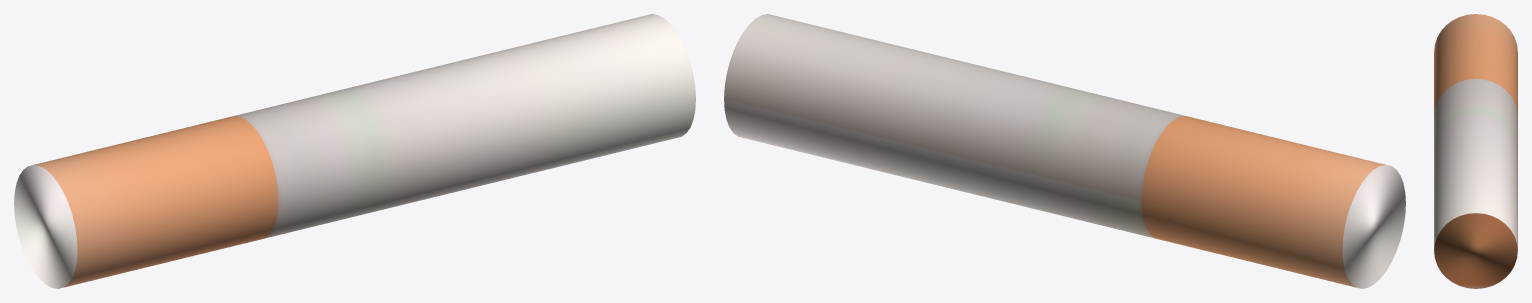
Rendered from Cigarette.glb.
The picture shows the model from 3 angles, left to right: view 1: azimuth 30°, elevation 25°; view 2: azimuth 150°, elevation 25°; view 3: azimuth 270°, elevation 25°; orthographic projection. The views are drawn at different scales.
Parts seen in each view (by area): view 1: Cylinder; view 2: Cylinder; view 3: Cylinder.
Boxes of the visible parts, <box> form: Cylinder: <box>14,14,695,288</box>; Cylinder: <box>724,14,1405,288</box>; Cylinder: <box>1434,14,1517,288</box>.
Size of the model in its own units: 0.1125 by 0.02 by 0.02.
Materials: 1 (1 with a texture image).
